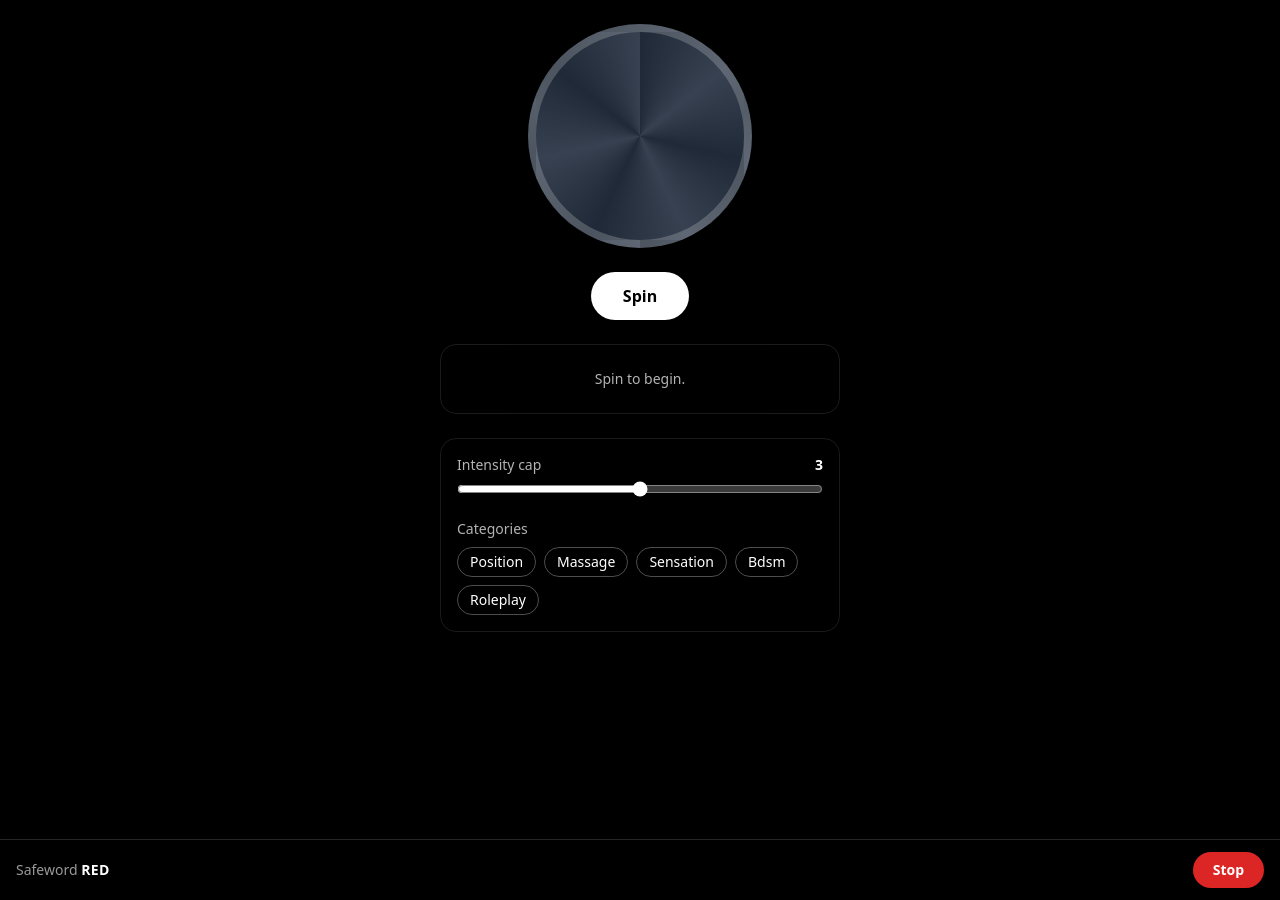
Test case: SpinSession › one-tap stop ends the session
Expected: the text "RED" is shown, [81,860,110,879]
Click the button with aria-label "stop the session now".
click(1228, 870)  # box [1193,852,1264,888]
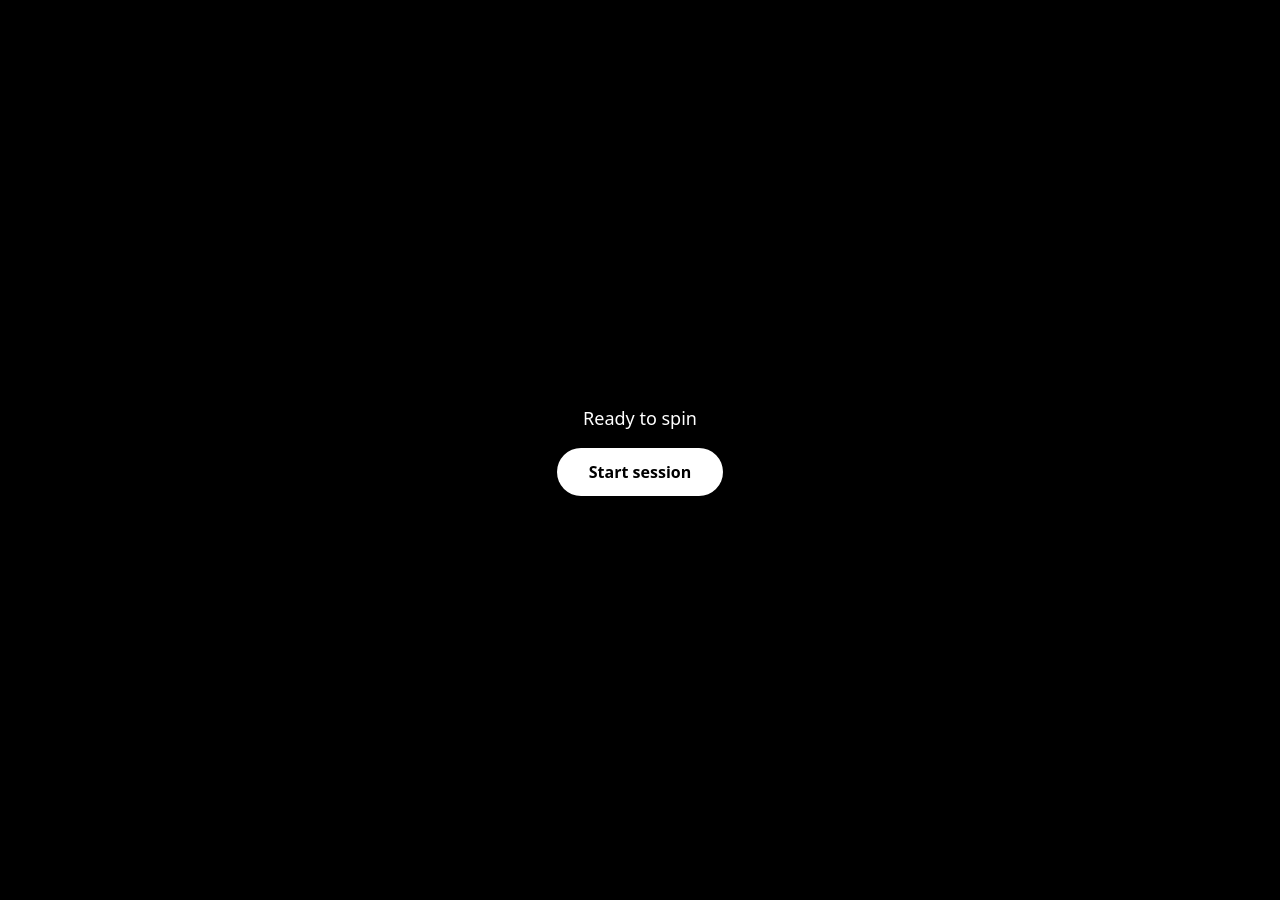
Now the button "Start session" is shown, box [557,448,723,496]
